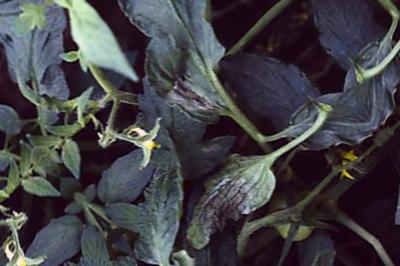Tomato leaf late blight: (66, 0, 291, 146), (159, 124, 301, 263), (100, 156, 224, 266)
